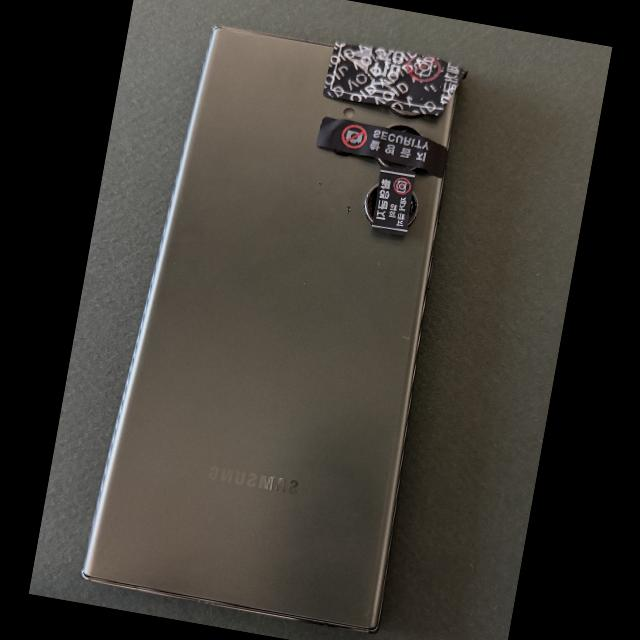lens: (362, 185, 376, 223), (381, 161, 412, 170)
phone: (81, 24, 459, 635)
sticker: (321, 40, 467, 117), (316, 115, 448, 178), (370, 168, 415, 237)
